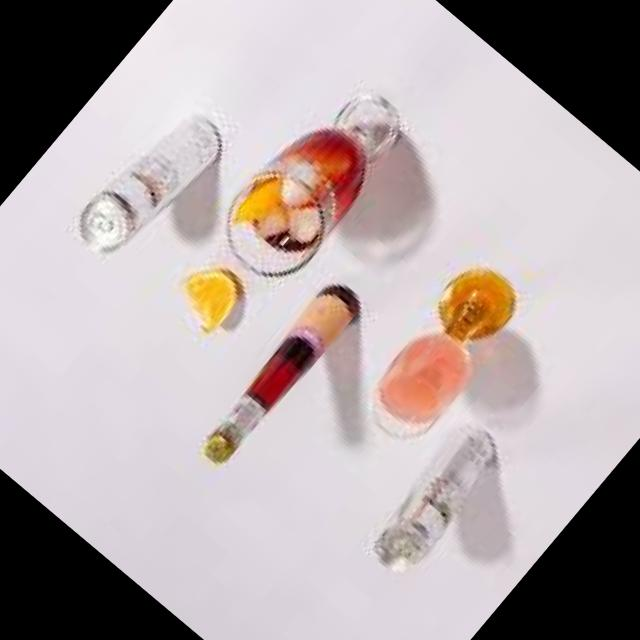Cans: (53, 86, 237, 283), (344, 408, 516, 594)
